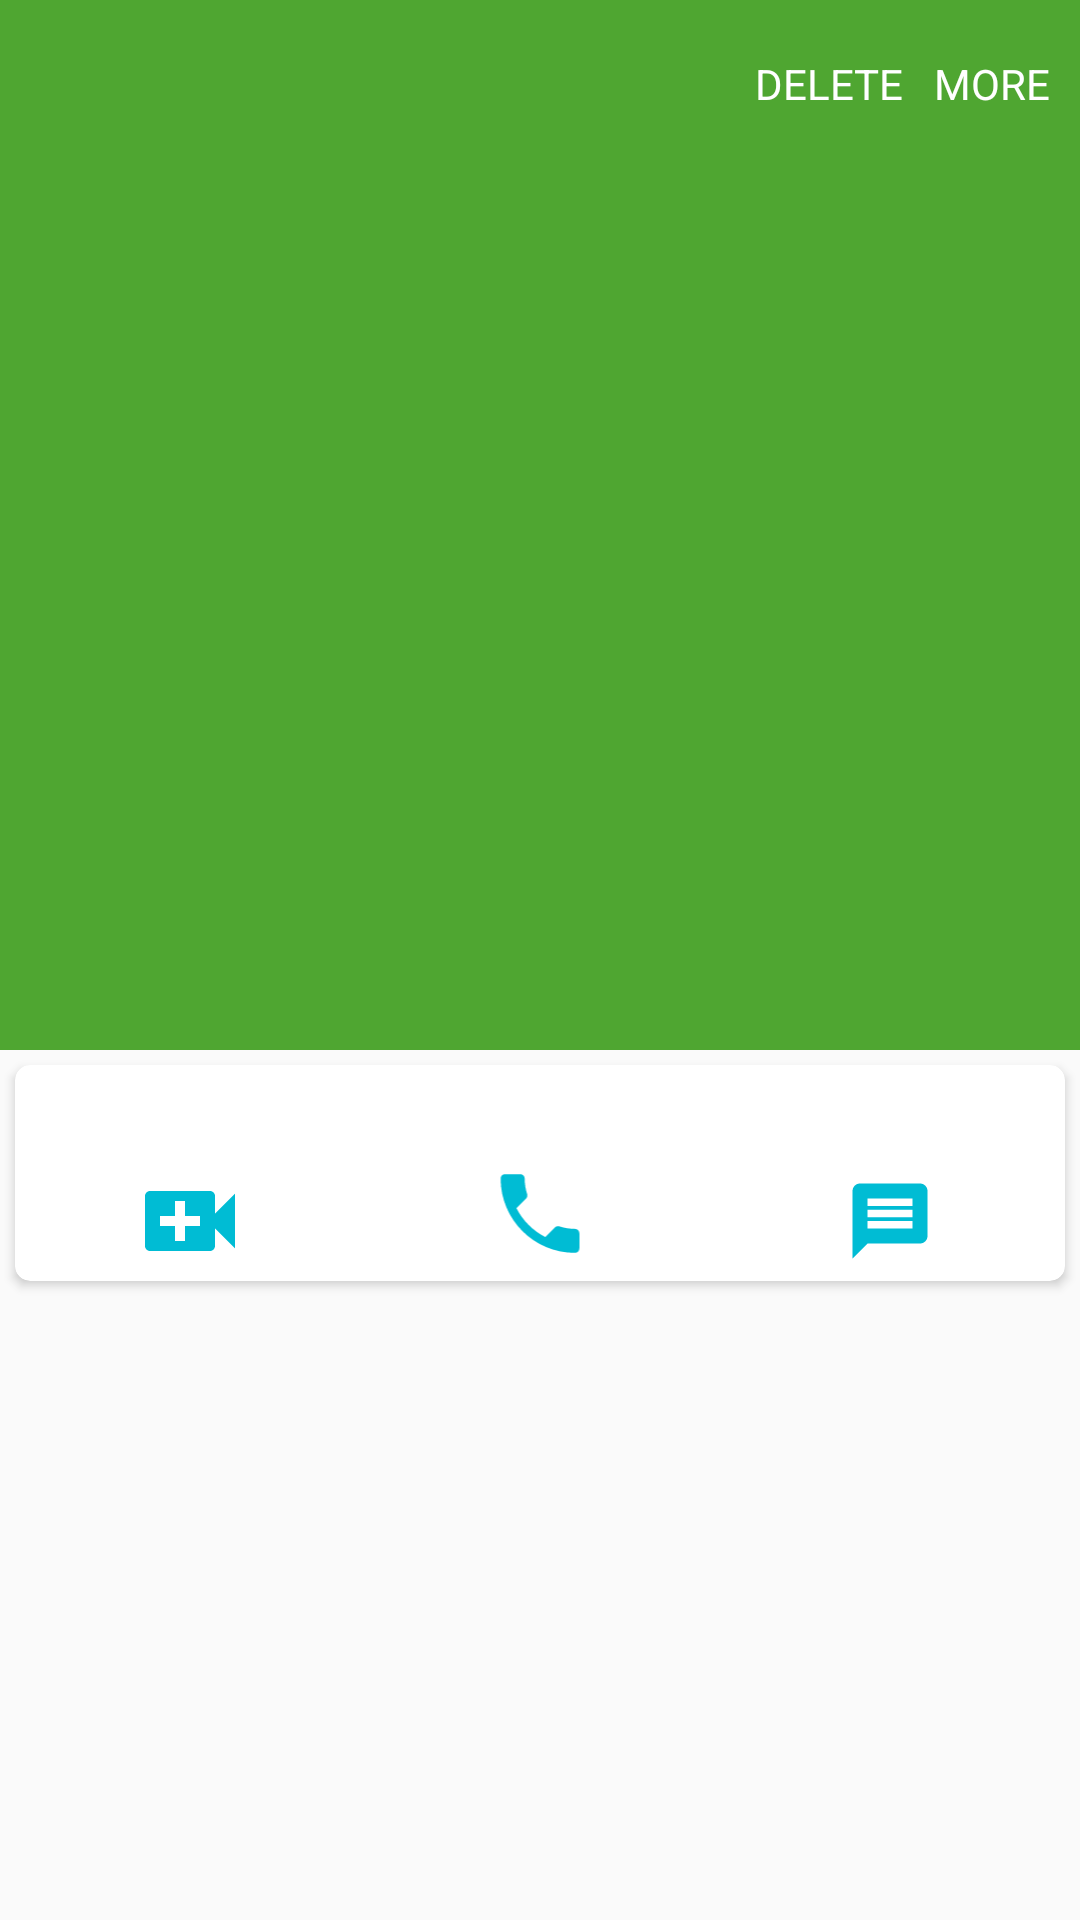

Point at icon controls on the screen. Image size 1080w x 1920h, points as point (x, y).
call: point (540, 1213)
message: point (890, 1221)
video call: point (190, 1221)
